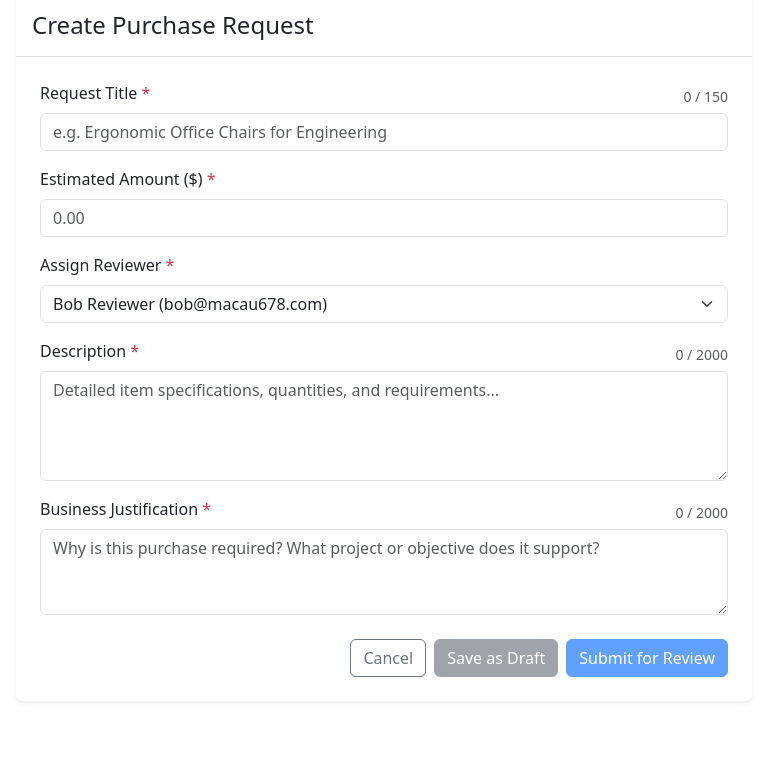
Test case: Frontend component tests: Authentication and Authorization › TEST-COMP-02: Purchase request form and character counters (FEAT-03, FEAT-12, FR-02, NFR-02, AC-02) › validates amount and disables submission until required fields are filled
The image size is (769, 766).
Expected: the button "Save as Draft" is disabled, [434,639,558,677]
Expected: the button "Submit for Review" is disabled, [566,639,728,677]
Enter invalid amount (0 or negative)
In the number field labelled "Estimated Amount ($) *": (384, 218) [40,199,728,237], type "0"
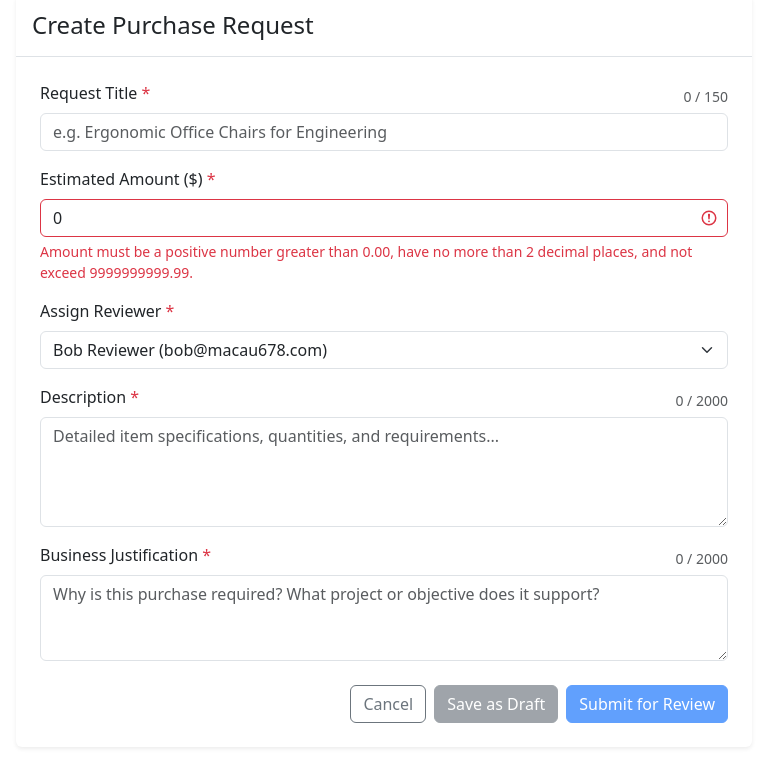
Result: the text "Amount must be a positive number greater than 0.00" is shown at [40,242,692,282]
Enter valid fields
In the field labelled "Request Title *": (384, 132) [40,113,728,151], type "Ergonomic Chairs"
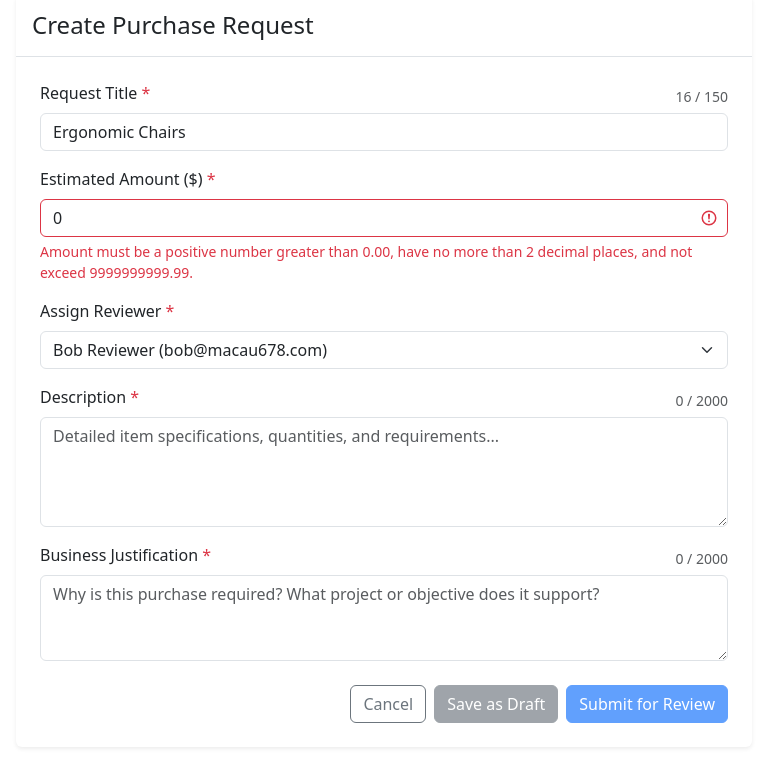
Replace the text in the number field labelled "Estimated Amount ($) *" with "450.00": (384, 218) [40,199,728,237]
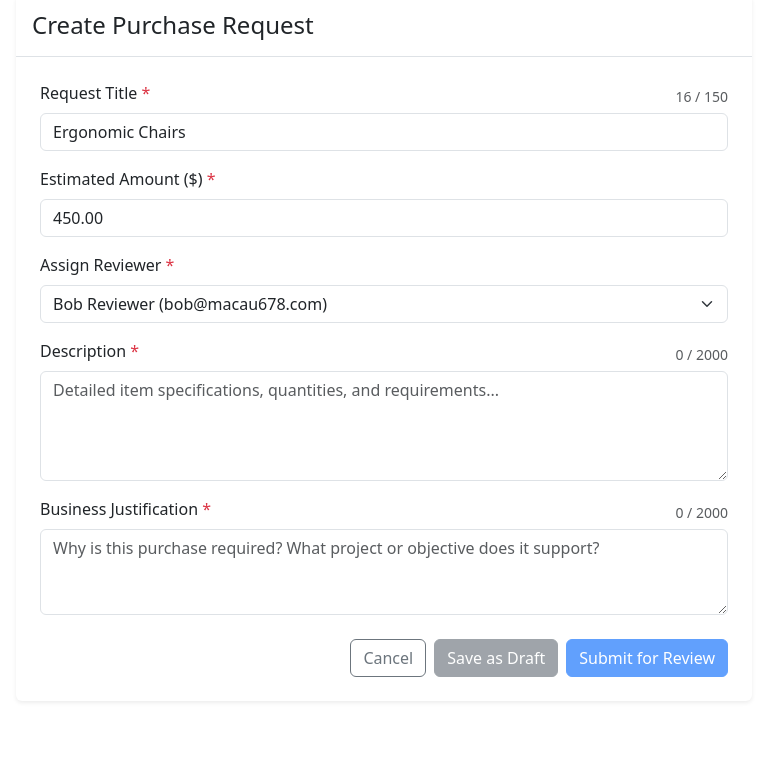
Replace the text in the text box labelled "Description *" with "Five adjustable mesh chairs": (384, 426) [40,371,728,481]
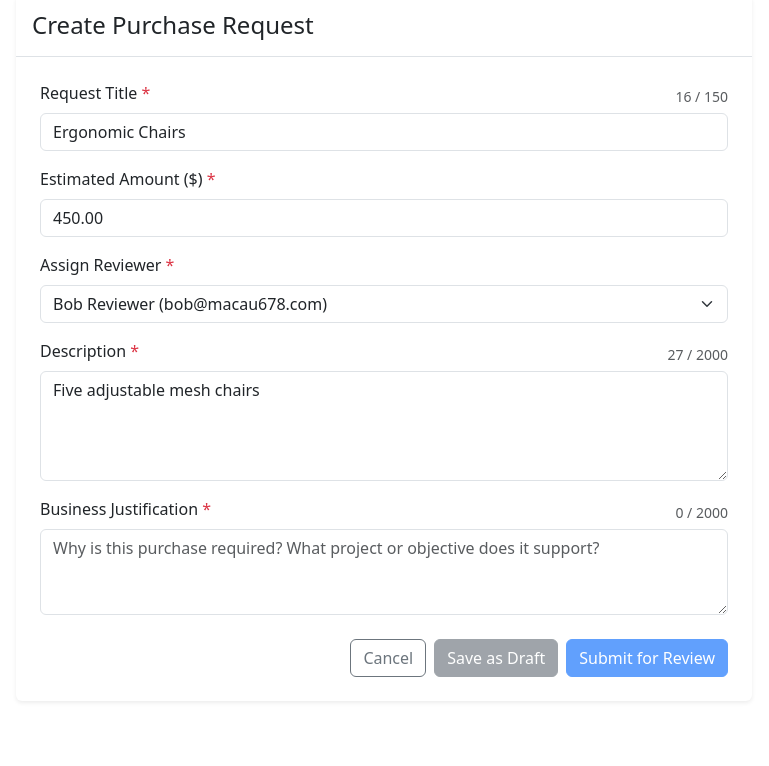
Replace the text in the text box labelled "Business Justification *" with "Replaces broken lab chairs": (384, 572) [40,529,728,615]
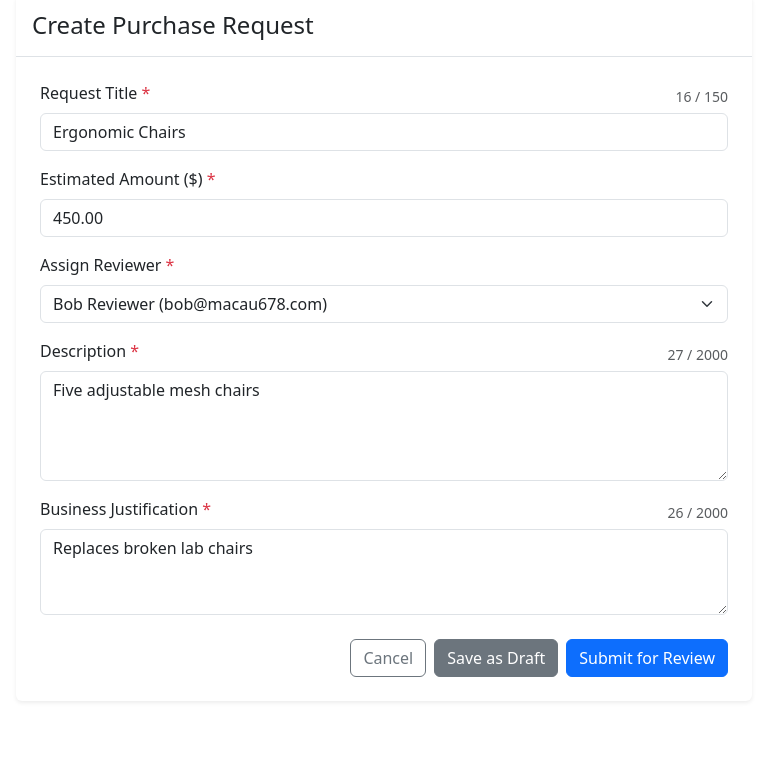
Result: the button "Save as Draft" is enabled at [434,639,558,677]
Result: the button "Submit for Review" is enabled at [566,639,728,677]
